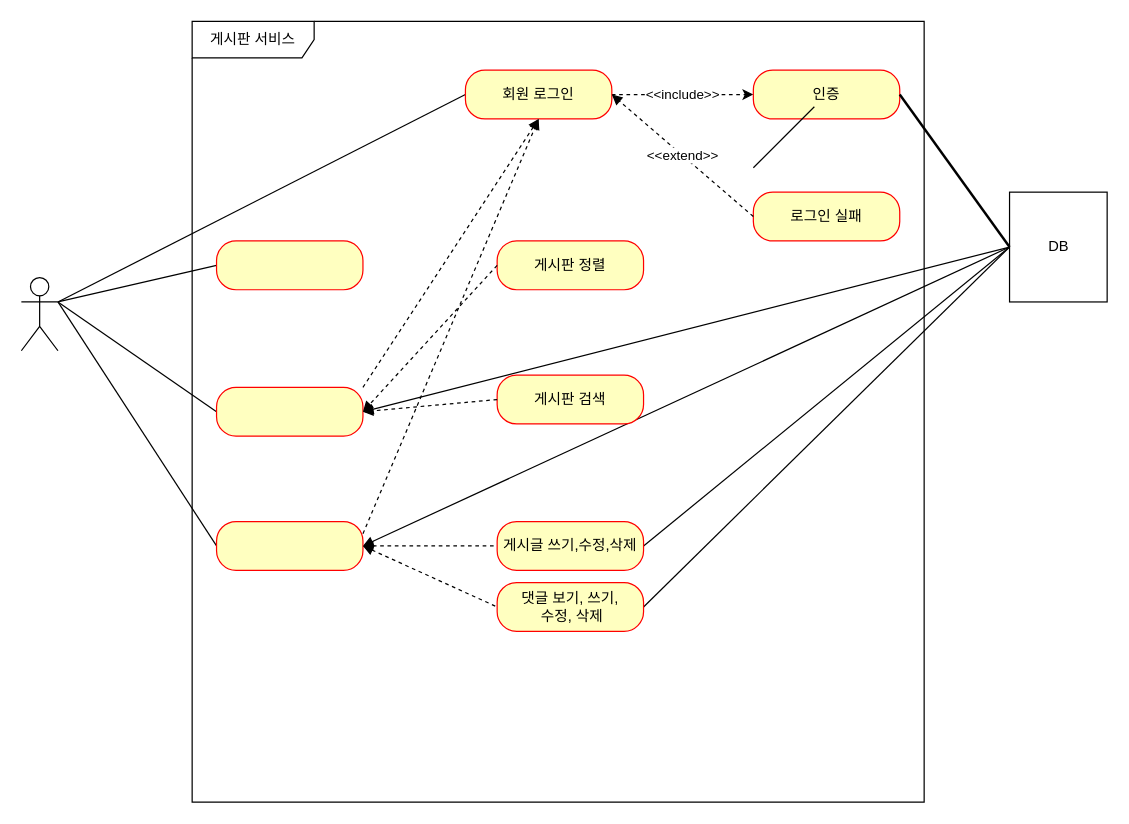
This 1129x824 diagram has some shape labels left out. Here are the shapes that lost their labels. From the top down, the centre of each, then its label:
At pixel 289 265: "회원 가입".
At pixel 39 313: "Actor".
At pixel 289 411: "게시판 보기".
At pixel 289 545: "게시글 보기".
